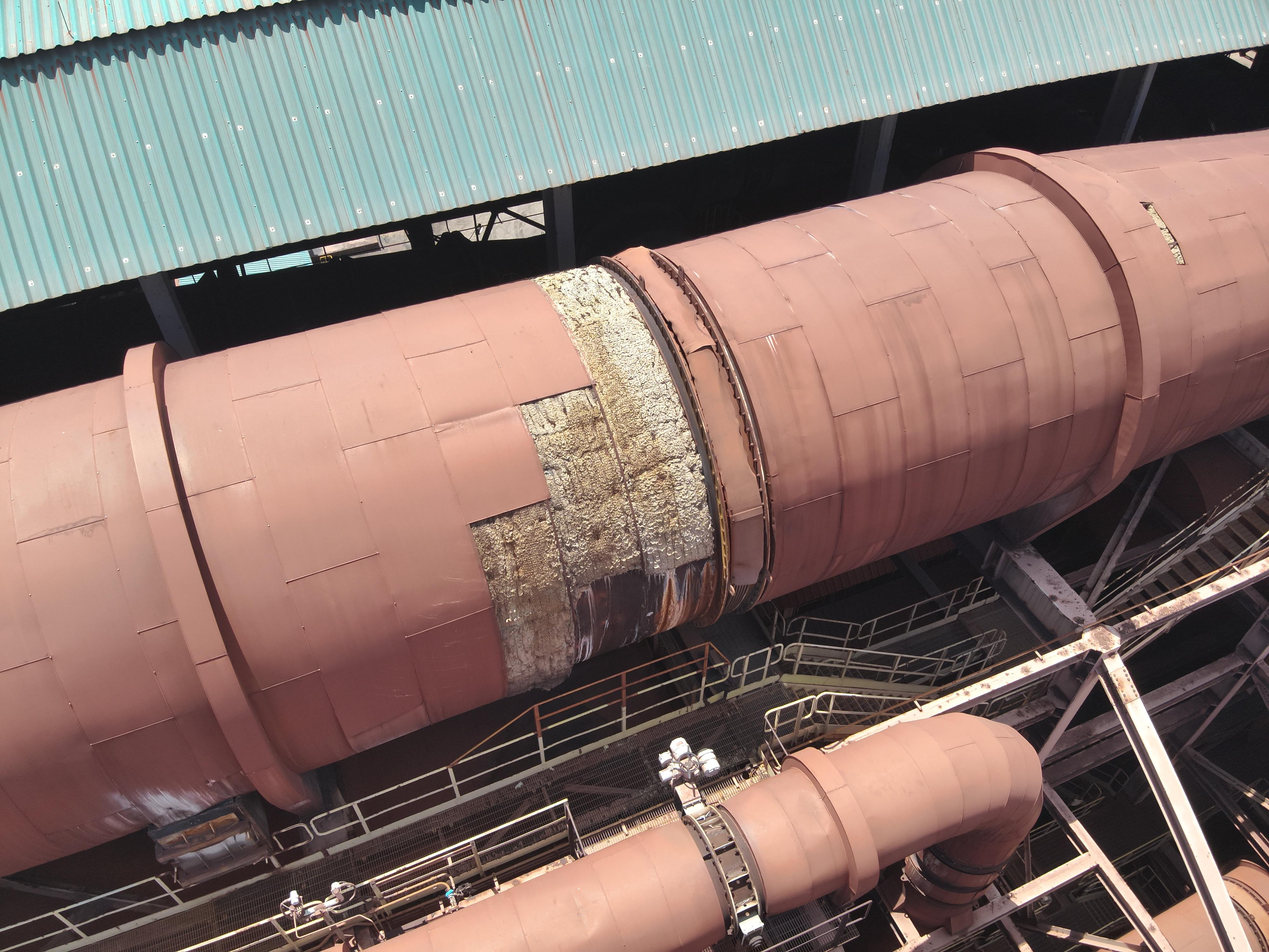Failures: (463, 266, 728, 699), (1140, 196, 1187, 266)
